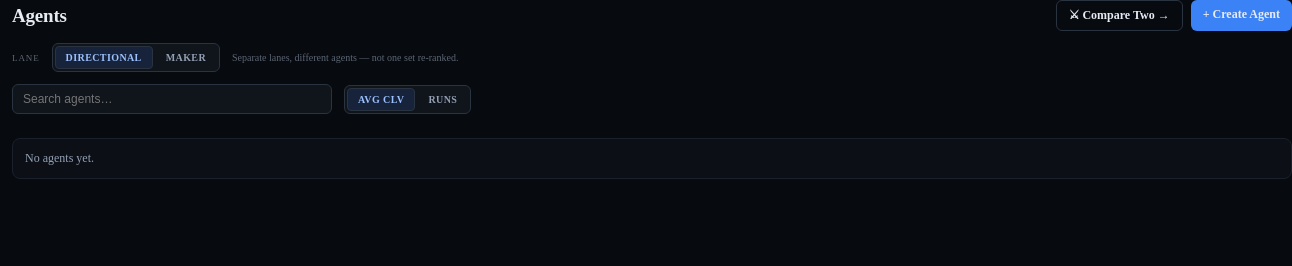
Test: AgentsScreen — Maker Arena lane (MM-R1) › the maker lane shows exactly the 2 maker agents (a separate population, SEC-005)
This screenshot has width=1292, height=266.
Click the radio button labelled "Maker": click(186, 58) [155,46,217,69]
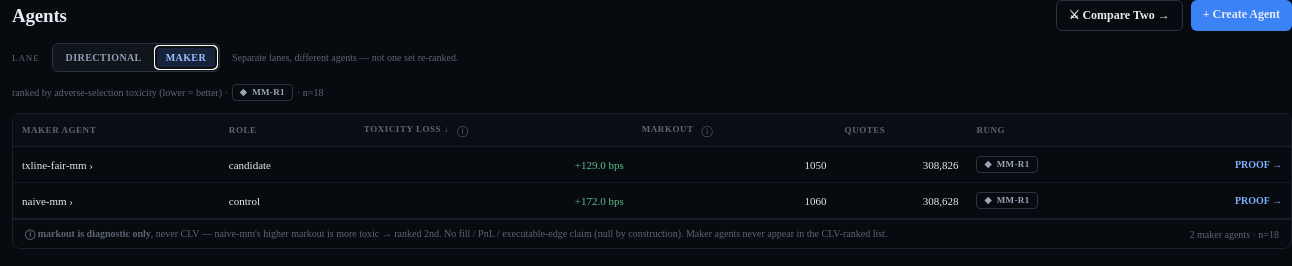
Result: the number of rows with test id "maker-agent-row" is 2 at [13,146,1291,182]; [13,182,1291,218]
